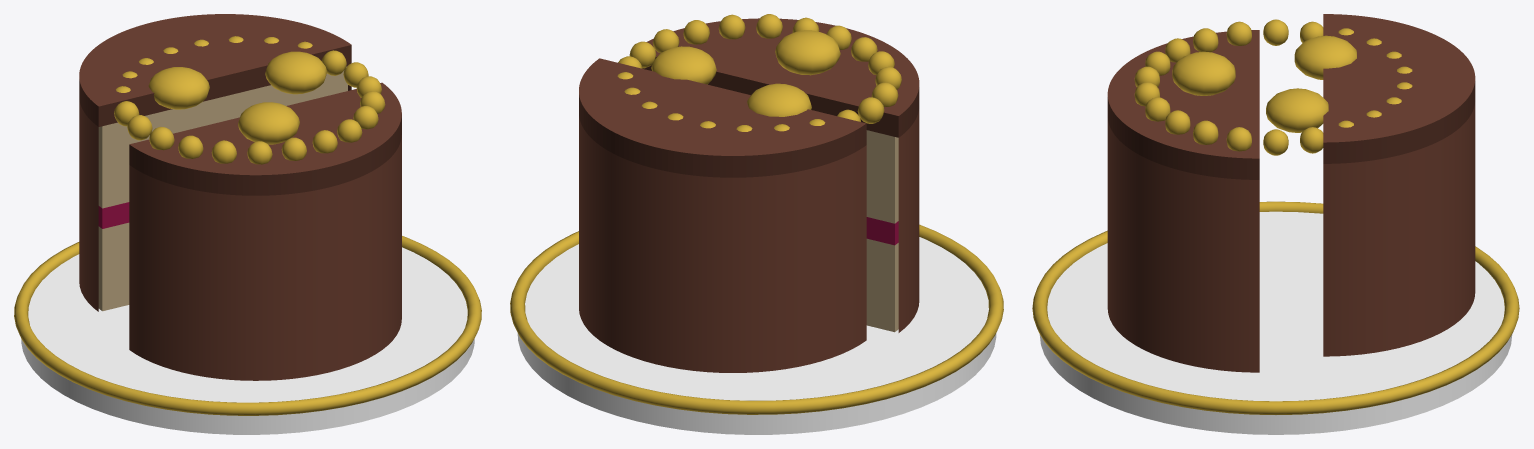
Rendered from torta-10cm-8alto-1p-2porc-chocolate.glb.
The picture shows the model from 3 angles, left to right: view 1: azimuth 30°, elevation 25°; view 2: azimuth 150°, elevation 25°; view 3: azimuth 270°, elevation 25°; orthographic projection. The views are drawn at different scales.
Bounding box in the file's own units: 0.165 × 0.1016 × 0.165.
